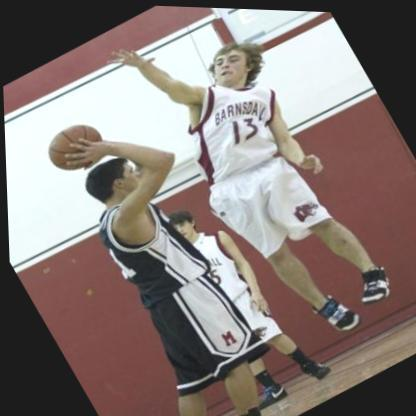basketball: (39, 113, 112, 181)
